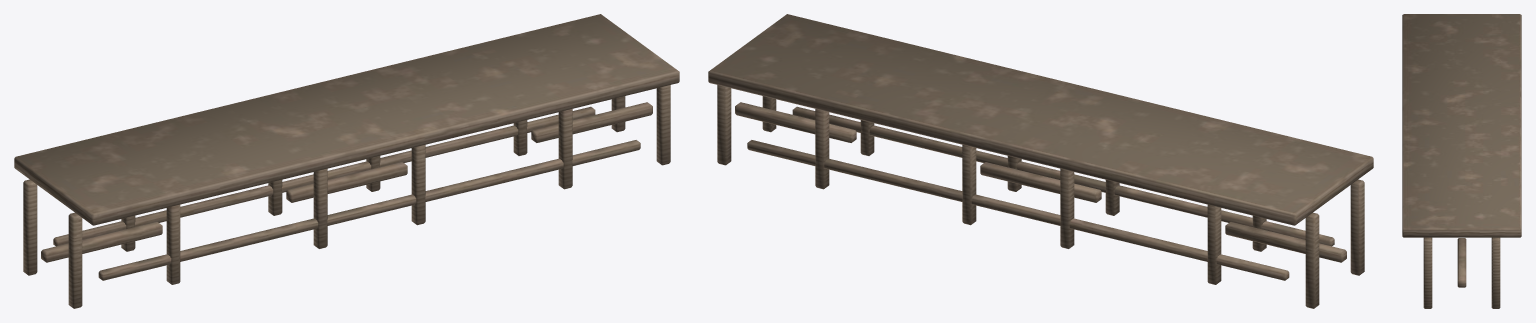
Rendered from long-table.glb.
The picture shows the model from 3 angles, left to right: view 1: azimuth 30°, elevation 25°; view 2: azimuth 150°, elevation 25°; view 3: azimuth 270°, elevation 25°; orthographic projection. The views are drawn at different scales.
Parts seen in each view (by area): view 1: long_table; view 2: long_table; view 3: long_table.
Boxes of the visible parts, box(x1,y1,x2,y2) form: long_table: box(14, 14, 679, 308); long_table: box(708, 14, 1373, 308); long_table: box(1402, 14, 1521, 308).
Bounding box in the file's own units: 6.2 × 1.02 × 1.4.
1 material, 1 textured.
